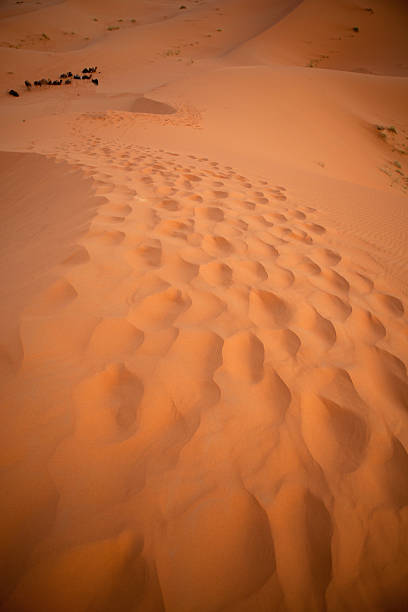human_footprint: (6, 140, 407, 609)
